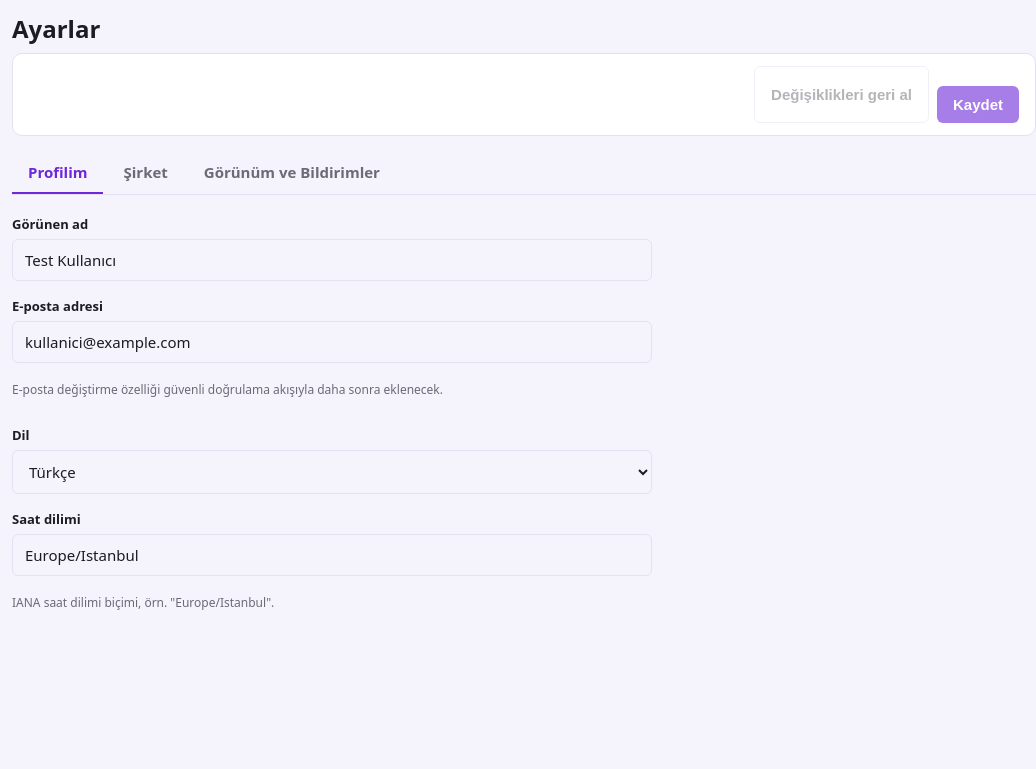
Test: Settings › owner olmayan bir kullanıcı için Şirket alanları salt okunur gösterilir ve neden açıklanır
Expected: the element showing "Profilim Şirket Görünüm ve Bildirimler" is shown, [12,152,1035,195]
Click the tab "Şirket": (146, 173) [108,152,184,194]
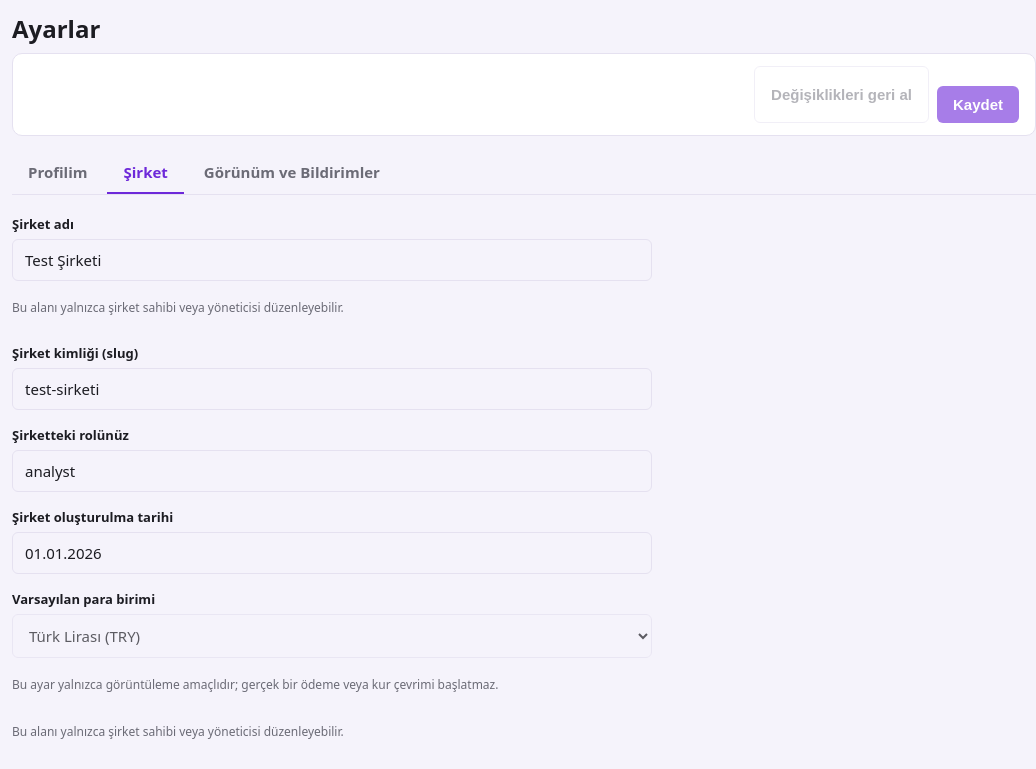
Expected: the field labelled "Şirket adı" is disabled, [12,239,652,281]
Expected: the text "Bu alanı yalnızca şirket sahibi veya yöneticisi düzenleyebilir." below "Şirket adı" is shown, [12,299,344,316]
